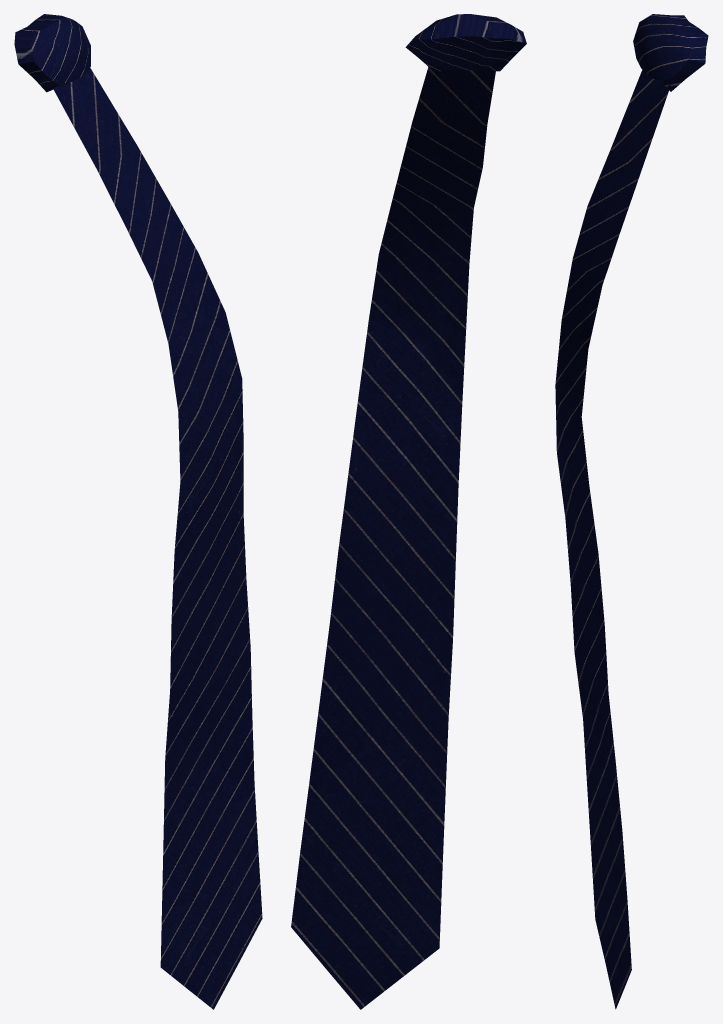
File: Pose-4_Tie-4.fbx
3 renders of one model, left to right at view 1: azimuth 30°, elevation 25°; view 2: azimuth 150°, elevation 25°; view 3: azimuth 270°, elevation 25°, orthographic. The views are drawn at different scales.
Visible parts, largest first — view 1: Pose-4_Tie-4; view 2: Pose-4_Tie-4; view 3: Pose-4_Tie-4.
Part boxes in pixels (x1,y1,x2,y2): Pose-4_Tie-4: [14, 14, 262, 1009]; Pose-4_Tie-4: [291, 14, 526, 1009]; Pose-4_Tie-4: [555, 14, 708, 1009].
Size of the model in its own units: 13 by 52.97 by 7.91.
